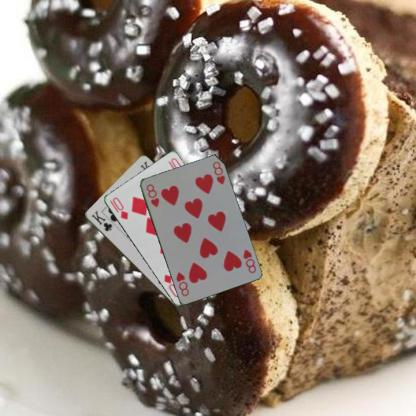10d: (107, 195, 129, 221)
8h: (240, 247, 258, 274), (143, 182, 160, 209)
Kc: (88, 208, 113, 233)
